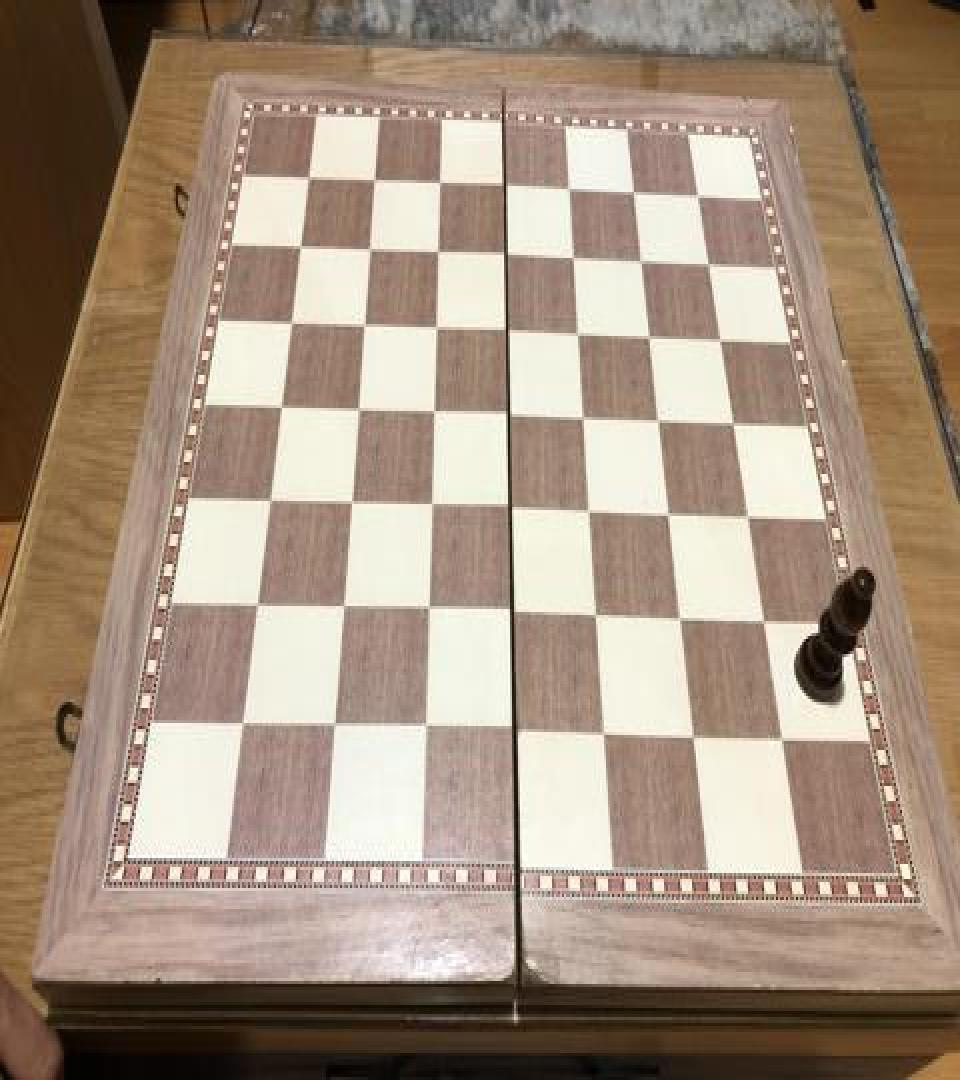xcorner: (584, 601, 608, 638), (592, 718, 616, 755), (688, 180, 712, 216), (623, 177, 647, 213), (493, 170, 517, 206), (428, 166, 452, 202), (362, 164, 386, 200), (296, 160, 320, 196), (698, 249, 722, 285), (630, 246, 654, 282), (563, 242, 587, 278), (494, 238, 518, 274), (426, 236, 450, 272), (357, 232, 381, 268), (288, 230, 312, 266), (710, 324, 734, 360), (639, 321, 663, 357), (567, 318, 591, 354), (495, 315, 519, 351), (423, 312, 447, 348), (351, 309, 375, 345), (278, 304, 302, 340), (722, 408, 746, 444), (647, 405, 671, 441), (572, 402, 596, 438), (497, 399, 521, 435), (421, 396, 445, 432), (345, 393, 369, 429), (268, 390, 292, 426), (736, 502, 760, 538), (657, 500, 681, 536), (578, 496, 602, 532), (498, 492, 522, 528), (418, 489, 442, 525), (337, 486, 361, 522), (256, 483, 280, 519), (752, 608, 776, 644), (669, 604, 693, 640), (500, 597, 524, 633), (415, 594, 439, 630), (329, 591, 353, 627), (243, 588, 267, 624), (770, 724, 794, 760), (681, 722, 705, 758), (502, 716, 526, 752), (411, 714, 435, 750), (320, 711, 344, 747), (228, 708, 252, 744), (558, 173, 582, 208)
